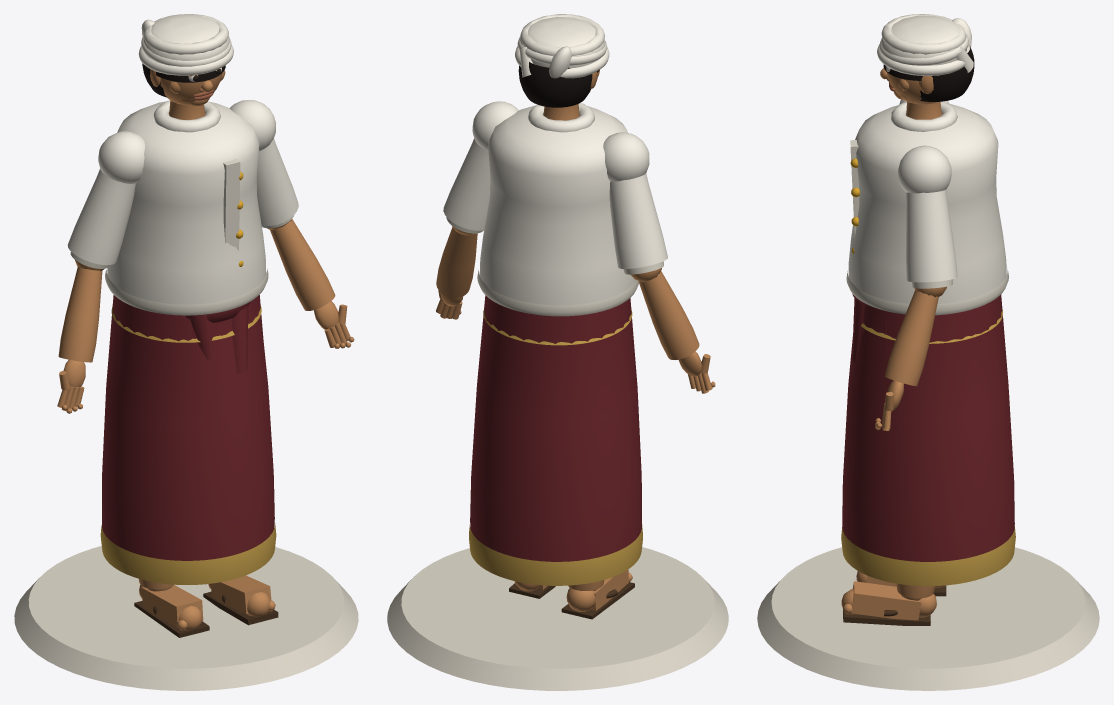
Rendered from myanmar_man.glb.
3 renders of one model, left to right at view 1: azimuth 30°, elevation 25°; view 2: azimuth 150°, elevation 25°; view 3: azimuth 270°, elevation 25°, orthographic.
Visible parts, largest first — view 1: STATIC_paso_silk, STATIC_taikpon_jacket, STATIC_base_stone, STATIC_skin, STATIC_gaung_baung, STATIC_paso_stripe, STATIC_taikpon_shade, STATIC_sandal_leather, STATIC_hair; view 2: STATIC_paso_silk, STATIC_taikpon_jacket, STATIC_base_stone, STATIC_skin, STATIC_gaung_baung, STATIC_paso_stripe, STATIC_taikpon_shade, STATIC_hair, STATIC_sandal_leather; view 3: STATIC_paso_silk, STATIC_base_stone, STATIC_taikpon_jacket, STATIC_skin, STATIC_gaung_baung, STATIC_paso_stripe, STATIC_taikpon_shade, STATIC_hair, STATIC_sandal_leather.
Boxes of the visible parts, x1,y1,x2,y2 form: STATIC_paso_silk: [102, 295, 274, 560]; STATIC_taikpon_jacket: [67, 100, 298, 304]; STATIC_base_stone: [14, 546, 358, 690]; STATIC_skin: [57, 69, 354, 630]; STATIC_gaung_baung: [138, 14, 233, 75]; STATIC_paso_stripe: [100, 306, 276, 584]; STATIC_taikpon_shade: [70, 158, 293, 315]; STATIC_sandal_leather: [134, 591, 278, 637]; STATIC_hair: [142, 63, 225, 97]; STATIC_paso_silk: [470, 295, 641, 561]; STATIC_taikpon_jacket: [443, 101, 667, 305]; STATIC_base_stone: [387, 547, 728, 690]; STATIC_skin: [436, 70, 715, 611]; STATIC_gaung_baung: [515, 14, 609, 78]; STATIC_paso_stripe: [469, 309, 642, 585]; STATIC_taikpon_shade: [446, 217, 663, 316]; STATIC_hair: [518, 62, 599, 107]; STATIC_sandal_leather: [509, 582, 634, 619]; STATIC_paso_silk: [842, 294, 1014, 561]; STATIC_base_stone: [757, 547, 1099, 690]; STATIC_taikpon_jacket: [848, 99, 1006, 303]; STATIC_skin: [841, 68, 946, 620]; STATIC_gaung_baung: [877, 14, 973, 75]; STATIC_paso_stripe: [841, 309, 1015, 586]; STATIC_taikpon_shade: [846, 140, 1008, 315]; STATIC_hair: [883, 47, 974, 101]; STATIC_sandal_leather: [843, 585, 946, 625].
Size of the model in its own units: 0.96 by 1.83 by 0.96.
